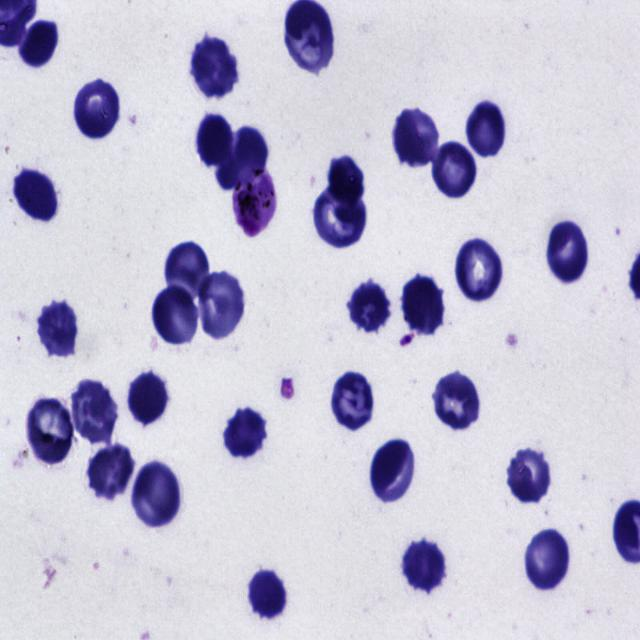gametocyte: (231, 164, 277, 238)
red blood cell: (454, 235, 503, 306), (312, 188, 368, 250), (133, 460, 183, 529), (72, 74, 121, 141), (431, 370, 483, 433), (198, 271, 244, 342), (430, 144, 481, 206), (546, 218, 592, 285), (524, 528, 572, 592), (28, 398, 74, 464), (71, 379, 117, 444), (151, 286, 199, 348), (191, 35, 238, 98), (370, 439, 416, 503), (329, 370, 375, 432), (88, 443, 134, 502), (163, 241, 212, 296), (504, 448, 549, 506), (403, 275, 447, 334), (38, 298, 80, 357), (403, 538, 447, 594), (127, 370, 171, 426), (466, 101, 508, 159), (228, 125, 272, 180), (348, 282, 392, 335), (224, 406, 268, 459), (395, 108, 439, 161), (14, 168, 56, 221), (247, 568, 289, 620), (329, 154, 368, 207), (17, 19, 58, 66), (198, 112, 230, 166)
